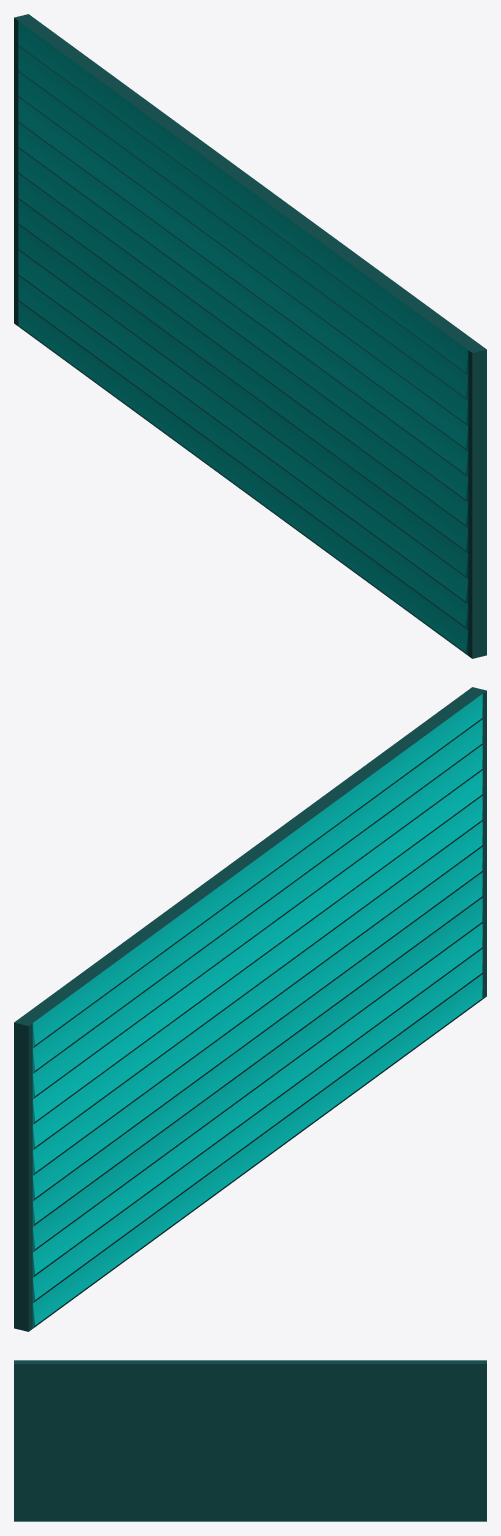
Rendered from TSP_House_Wall_Short_12A.fbx.
The picture shows the model from 3 angles, top to bottom: view 1: azimuth 30°, elevation 25°; view 2: azimuth 150°, elevation 25°; view 3: azimuth 270°, elevation 25°; orthographic projection. The views are drawn at different scales.
Parts seen in each view (by area): view 1: TSP_House_Wall_Regular_12A; view 2: TSP_House_Wall_Regular_12A; view 3: TSP_House_Wall_Regular_12A.
Part boxes in pixels (x1,y1,x2,y2): TSP_House_Wall_Regular_12A: [14, 14, 486, 658]; TSP_House_Wall_Regular_12A: [14, 687, 486, 1331]; TSP_House_Wall_Regular_12A: [14, 1360, 486, 1521].
Size of the model in its own units: 16 by 300 by 815.
